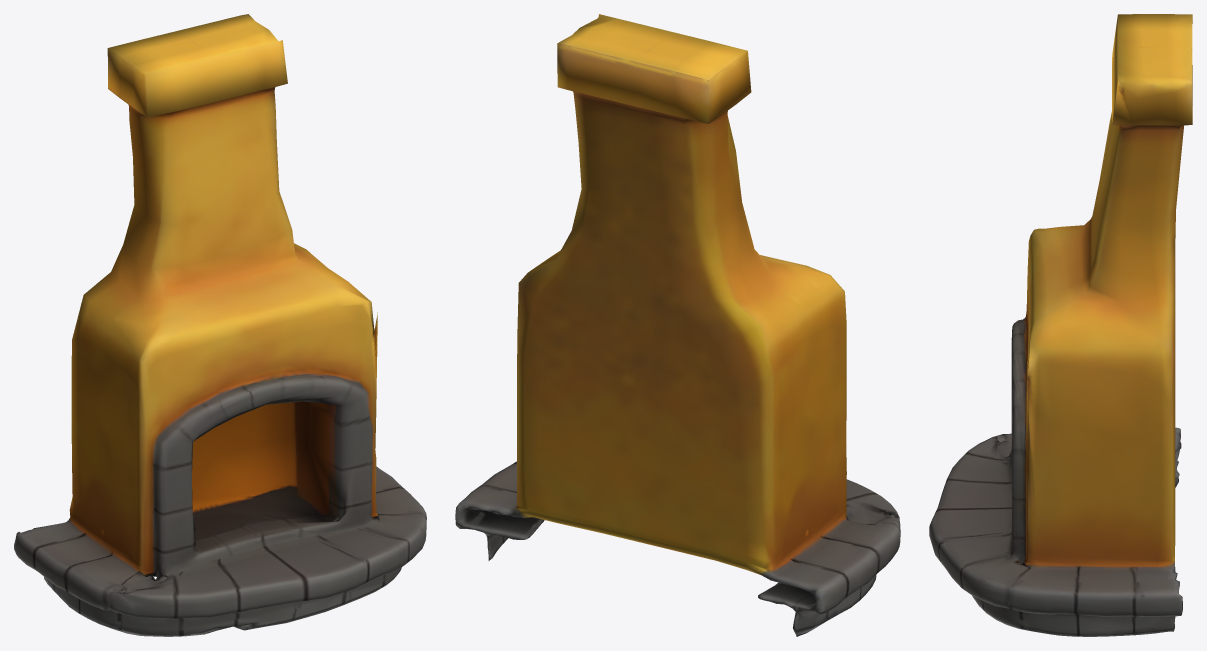
File: fireplace.fbx
3 renders of one model, left to right at view 1: azimuth 30°, elevation 25°; view 2: azimuth 150°, elevation 25°; view 3: azimuth 270°, elevation 25°, orthographic. The views are drawn at different scales.
Parts seen in each view (by area): view 1: Mesh_0; view 2: Mesh_0; view 3: Mesh_0.
Part boxes in pixels (x1,y1,x2,y2): Mesh_0: [14, 14, 426, 636]; Mesh_0: [455, 14, 900, 636]; Mesh_0: [929, 14, 1192, 636].
Size of the model in its own units: 4.27 by 6 by 2.79.
Materials: 1 (1 with a texture image).
